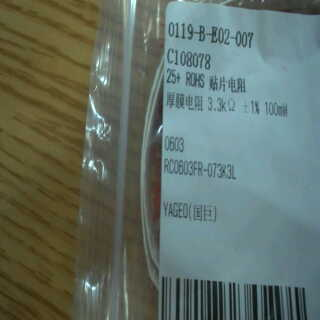3.3kO: (204, 93, 240, 116)
